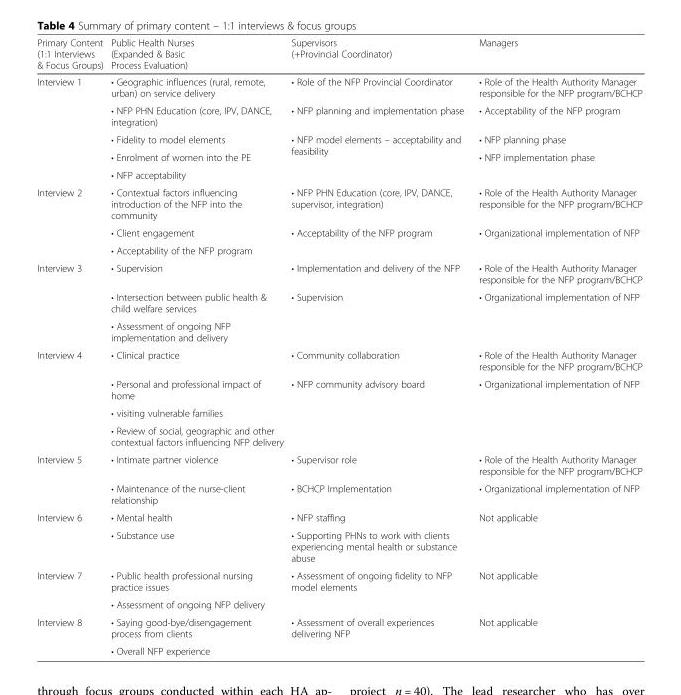table: (36, 36, 641, 656)
table column: (286, 36, 470, 656), (106, 36, 286, 656), (470, 36, 641, 656), (36, 36, 106, 656)
table column header: (36, 36, 641, 73)
table row: (36, 183, 641, 223), (36, 526, 641, 566), (36, 36, 641, 73), (36, 101, 641, 130), (36, 258, 641, 287), (36, 287, 641, 316), (36, 316, 641, 345), (36, 345, 641, 374), (36, 374, 641, 403), (36, 421, 641, 450), (36, 450, 641, 479), (36, 479, 641, 508), (36, 566, 641, 595), (36, 73, 641, 101), (36, 613, 641, 641), (36, 130, 641, 148), (36, 165, 641, 183), (36, 223, 641, 241), (36, 403, 641, 421), (36, 508, 641, 526), (36, 595, 641, 613), (36, 148, 641, 165), (36, 241, 641, 258), (36, 641, 641, 656)
table spanning cell: (286, 374, 470, 450), (470, 374, 641, 450), (286, 287, 470, 345), (470, 287, 641, 345), (470, 508, 641, 566), (286, 130, 470, 183), (286, 566, 470, 613), (470, 566, 641, 613), (286, 613, 470, 656), (36, 73, 106, 183), (470, 613, 641, 656), (36, 345, 106, 450), (286, 223, 470, 258), (36, 258, 106, 345), (470, 148, 641, 183), (470, 223, 641, 258), (36, 183, 106, 258), (36, 450, 106, 508), (36, 508, 106, 566), (36, 566, 106, 613), (36, 613, 106, 656)
